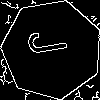J: (27, 24, 77, 58)
